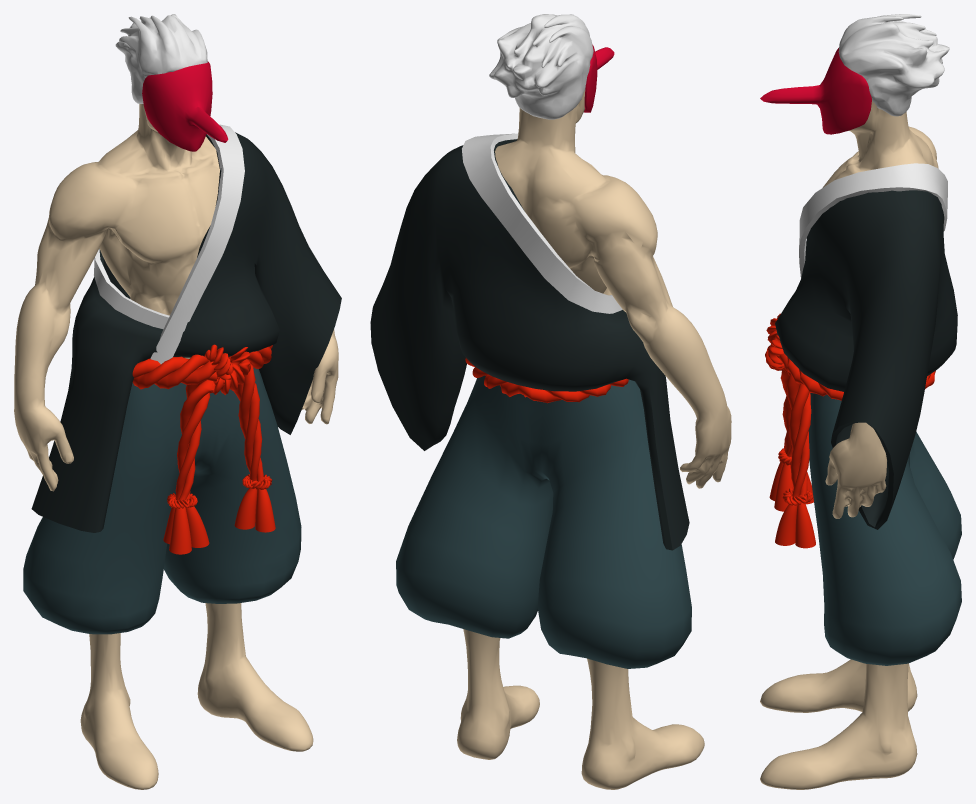
File: Character_concept_1.fbx
3 renders of one model, left to right at view 1: azimuth 30°, elevation 25°; view 2: azimuth 150°, elevation 25°; view 3: azimuth 270°, elevation 25°, orthographic. The views are drawn at different scales.
Visible parts, largest first — view 1: Cube.022, Pants.032, Shirt.044, BezierCurve.004, Shirt.045, Mask.023, Hair.021; view 2: Pants.032, Shirt.044, Cube.022, Hair.021, Shirt.045, BezierCurve.004, Mask.023; view 3: Shirt.044, Pants.032, Cube.022, Hair.021, BezierCurve.004, Shirt.045, Mask.023.
Boxes of the visible parts, box(x1,y1,x2,y2) form: Cube.022: box(14, 104, 338, 789); Pants.032: box(23, 367, 301, 634); Shirt.044: box(31, 132, 341, 532); BezierCurve.004: box(132, 344, 275, 554); Shirt.045: box(94, 124, 244, 364); Mask.023: box(142, 61, 228, 151); Hair.021: box(115, 14, 207, 103); Pants.032: box(396, 375, 691, 668); Shirt.044: box(370, 139, 689, 550); Cube.022: box(457, 90, 731, 789); Hair.021: box(489, 14, 593, 119); Shirt.045: box(462, 133, 622, 313); BezierCurve.004: box(465, 358, 628, 403); Mask.023: box(584, 44, 614, 112); Shirt.044: box(775, 190, 957, 529); Pants.032: box(808, 393, 961, 665); Cube.022: box(760, 68, 938, 789); Hair.021: box(838, 14, 949, 116); BezierCurve.004: box(765, 313, 935, 548); Shirt.045: box(799, 163, 947, 278); Mask.023: box(760, 48, 871, 134).
Size of the model in its own units: 146 by 303 by 76.34.
